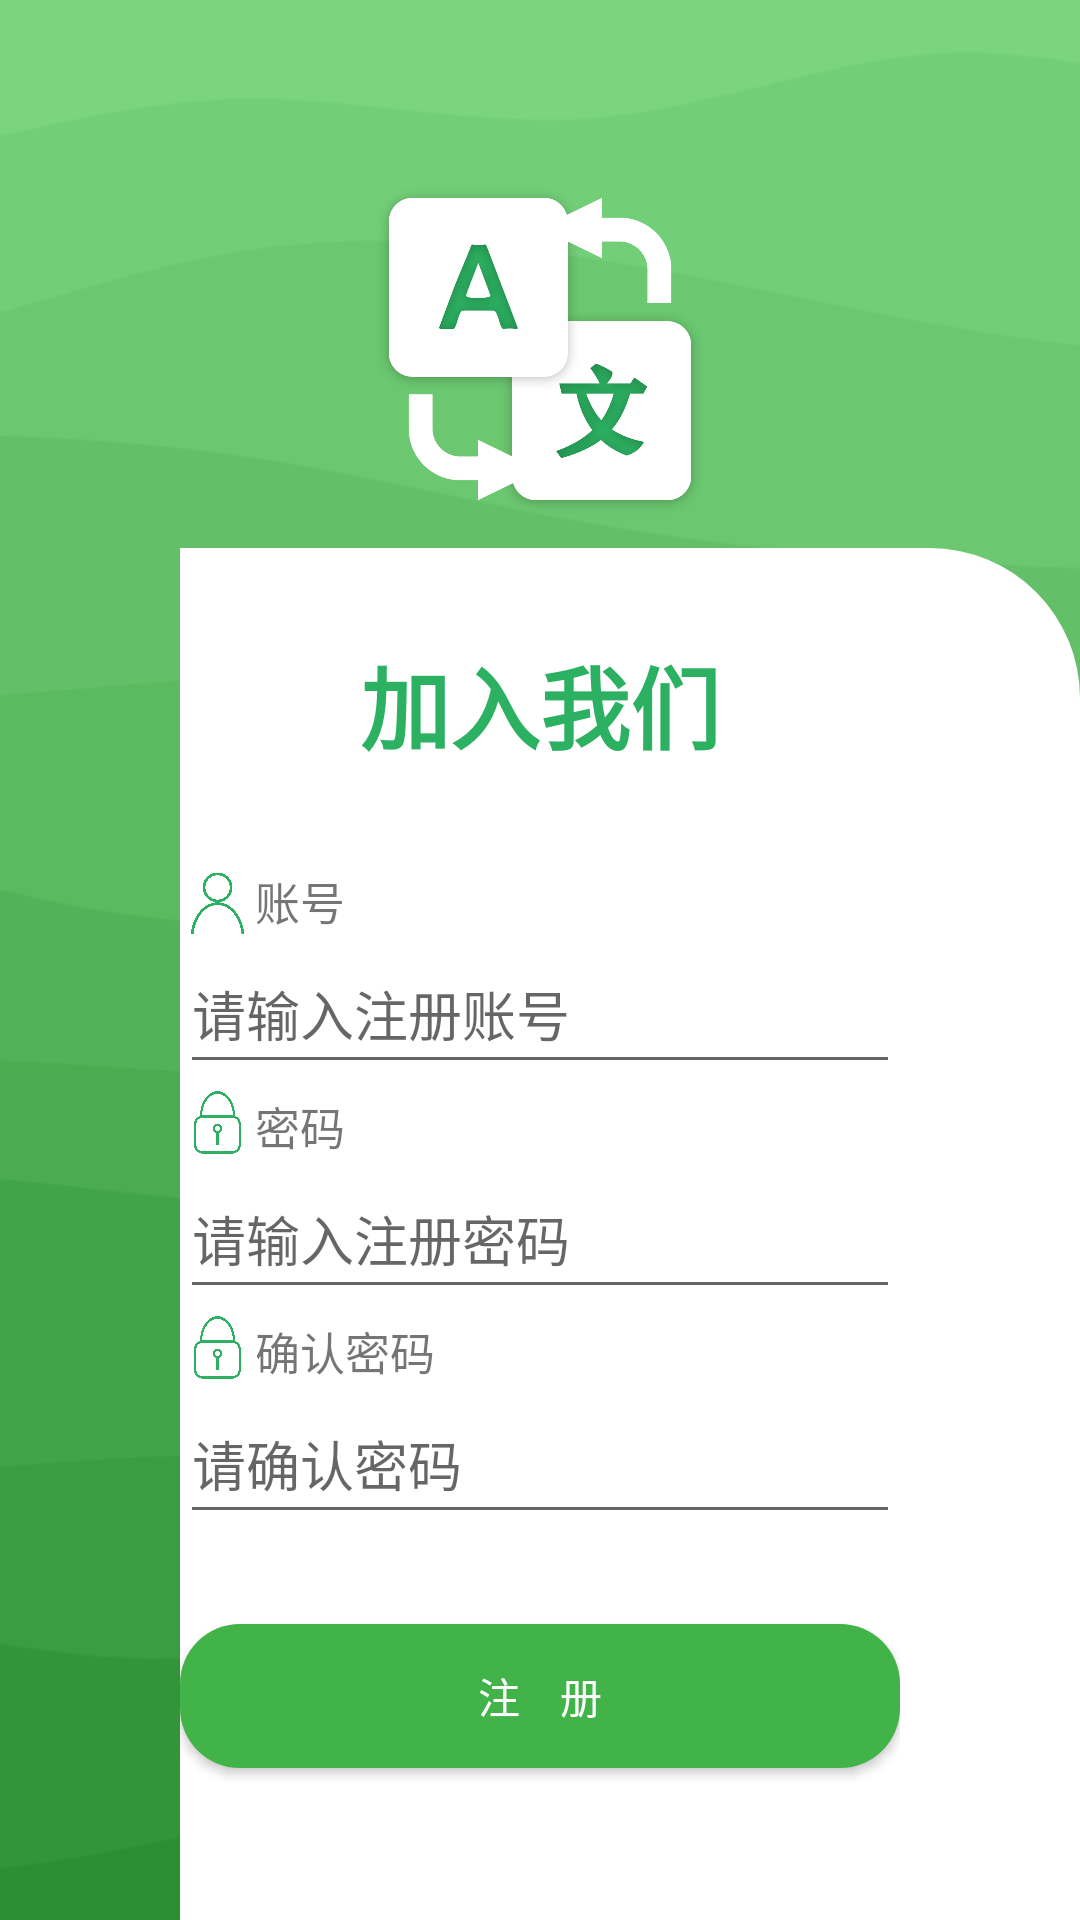

Named icons in this screenshot (1080 x 1920) and their bounding boxes, (x1, y1, x2, y2):
translation: (386, 198, 694, 504)
